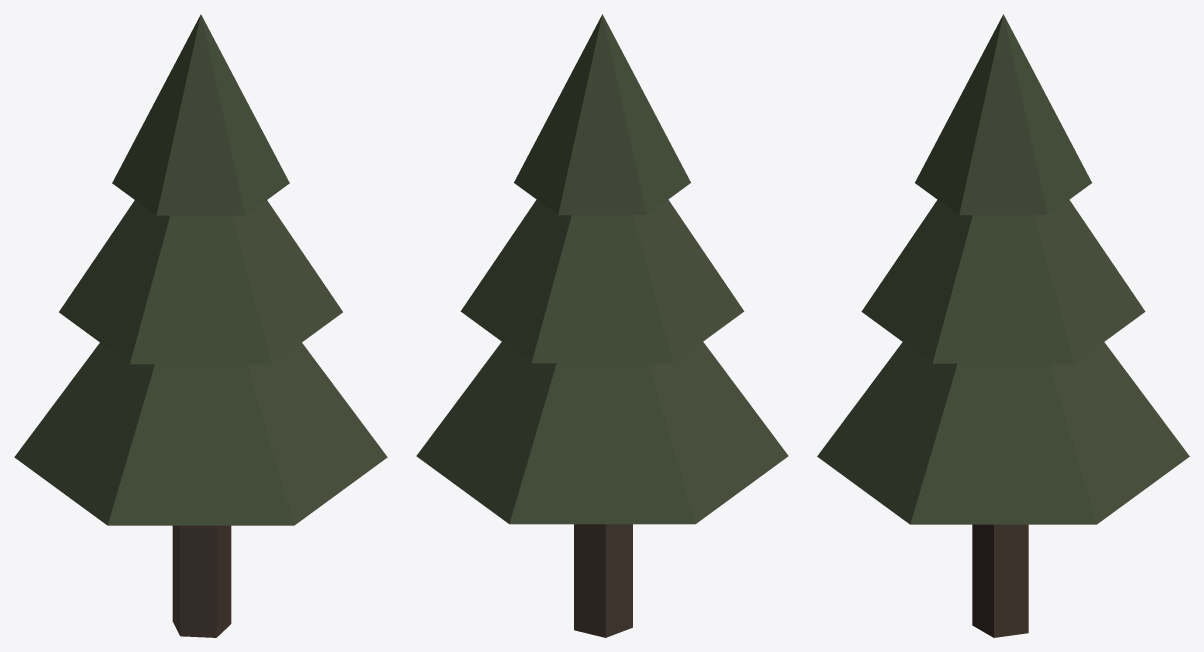
File: tree_pine.glb
3 views of the same model, side by side, from view 1: azimuth 30°, elevation 25°; view 2: azimuth 150°, elevation 25°; view 3: azimuth 270°, elevation 25° (orthographic).
Parts seen in each view (by area): view 1: pine tier, pine tier.001, pine tier.002, pine trunk; view 2: pine tier, pine tier.001, pine tier.002, pine trunk; view 3: pine tier, pine tier.001, pine tier.002, pine trunk.
Boxes of the visible parts, left/top/right/bottom form: pine tier: left=14, top=343, right=387, bottom=525; pine tier.001: left=59, top=200, right=342, bottom=364; pine tier.002: left=112, top=14, right=289, bottom=215; pine trunk: left=172, top=525, right=231, bottom=637; pine tier: left=416, top=342, right=788, bottom=524; pine tier.001: left=460, top=199, right=744, bottom=363; pine tier.002: left=514, top=14, right=690, bottom=215; pine trunk: left=574, top=524, right=632, bottom=637; pine tier: left=817, top=342, right=1189, bottom=524; pine tier.001: left=861, top=200, right=1145, bottom=363; pine tier.002: left=915, top=14, right=1091, bottom=215; pine trunk: left=972, top=524, right=1028, bottom=637.
Size of the model in its own units: 0.7275 by 1.52 by 0.84.
